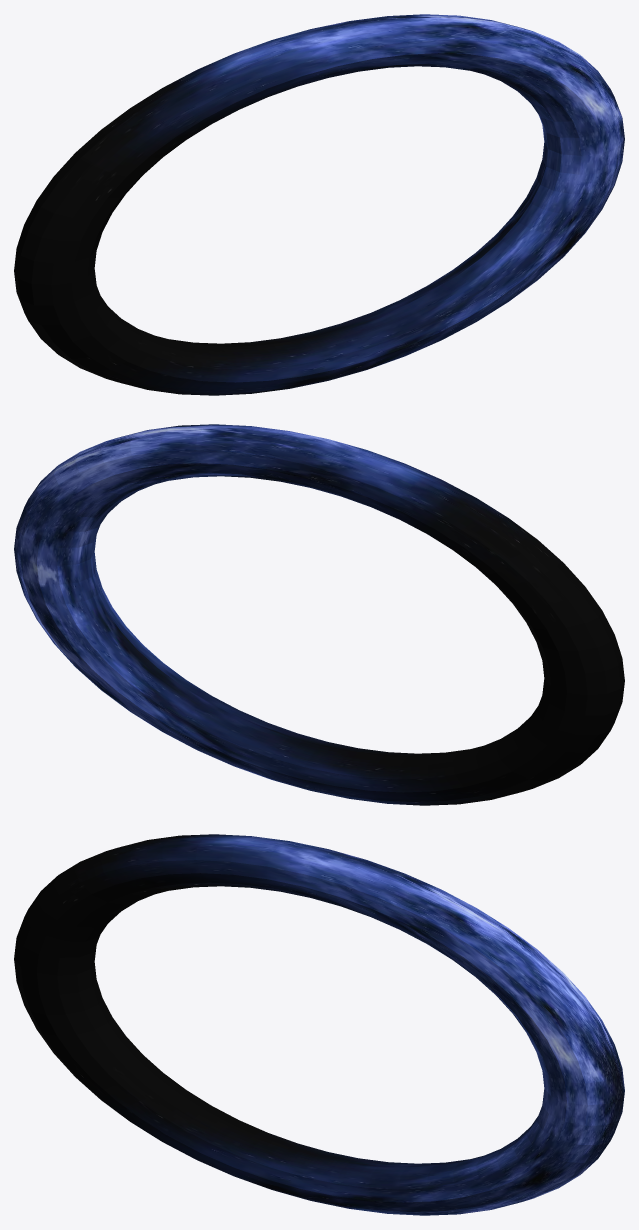
The model's file is portal_final_lev2.glb.
3 renders of one model, top to bottom at view 1: azimuth 30°, elevation 25°; view 2: azimuth 150°, elevation 25°; view 3: azimuth 330°, elevation 25°, orthographic.
Parts seen in each view (by area): view 1: portal_nivel3_lev1_lev2; view 2: portal_nivel3_lev1_lev2; view 3: portal_nivel3_lev1_lev2.
Boxes of the visible parts, left/top/right/bottom form: portal_nivel3_lev1_lev2: left=14, top=14, right=624, bottom=395; portal_nivel3_lev1_lev2: left=14, top=424, right=624, bottom=805; portal_nivel3_lev1_lev2: left=14, top=834, right=624, bottom=1215.
Size of the model in its own units: 9.62 by 5.25 by 0.9688.
1 material, 1 textured.
